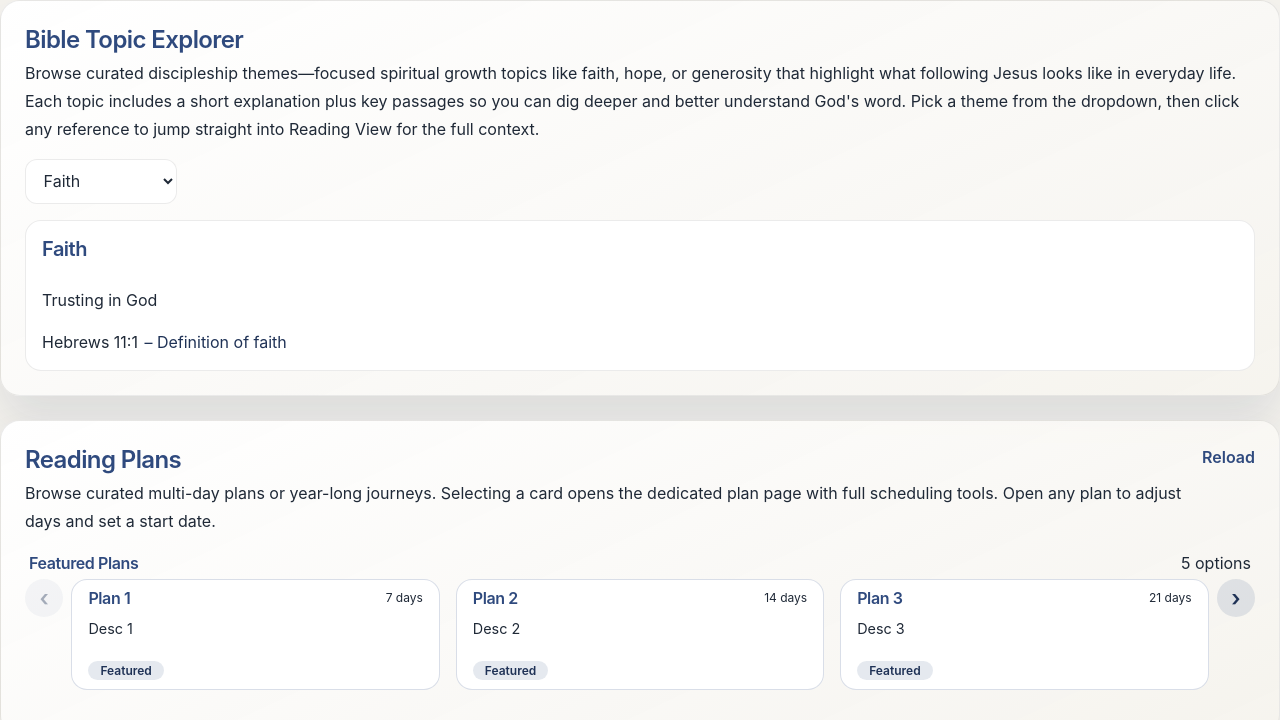
Test case: StudyResources › Carousel Navigation › advances featured carousel on next arrow click
Expected: the text "Plan 4" is not shown
Click the button with class "carousel-arrow" showing "›".
click(1236, 598)  # box [1217,579,1255,617]
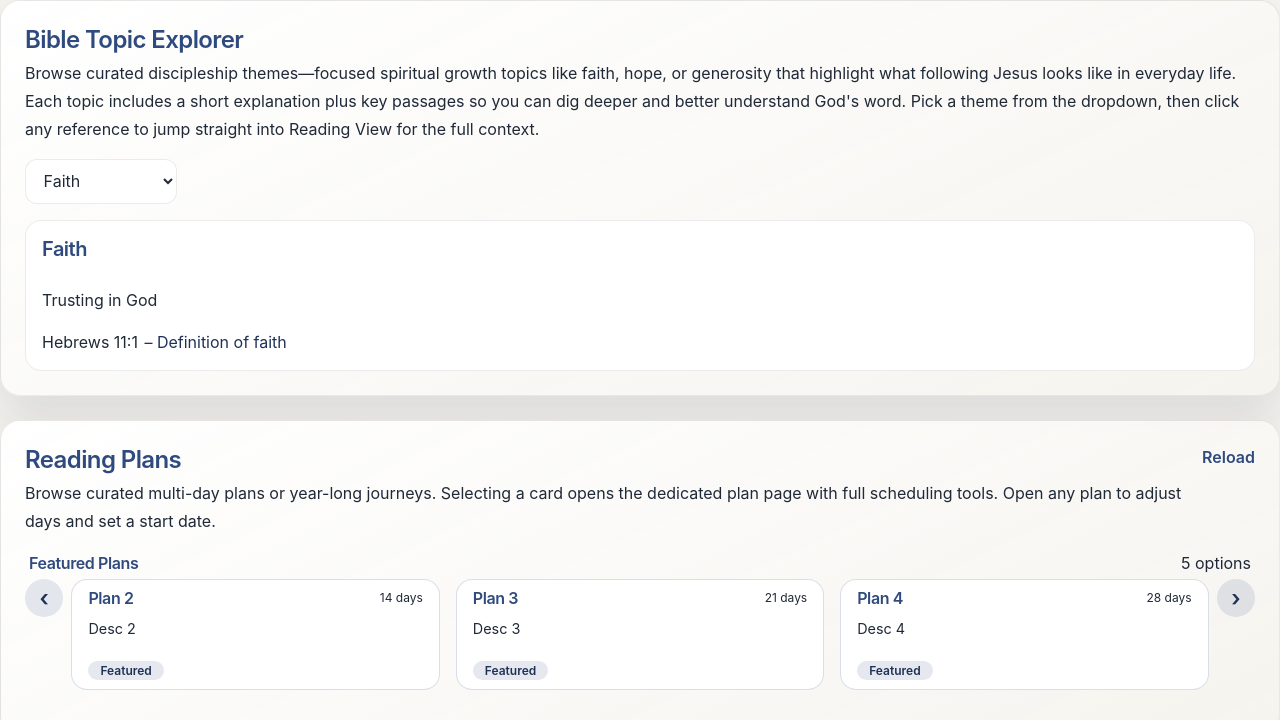
Expected: the text "Plan 4" is shown, [857,588,903,608]
